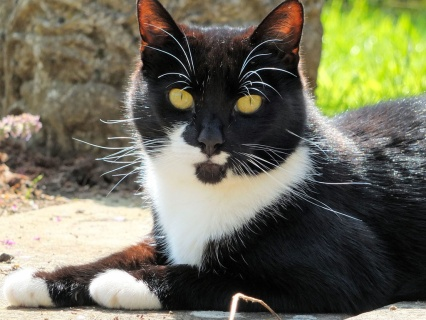Cat: (0, 0, 426, 313)
